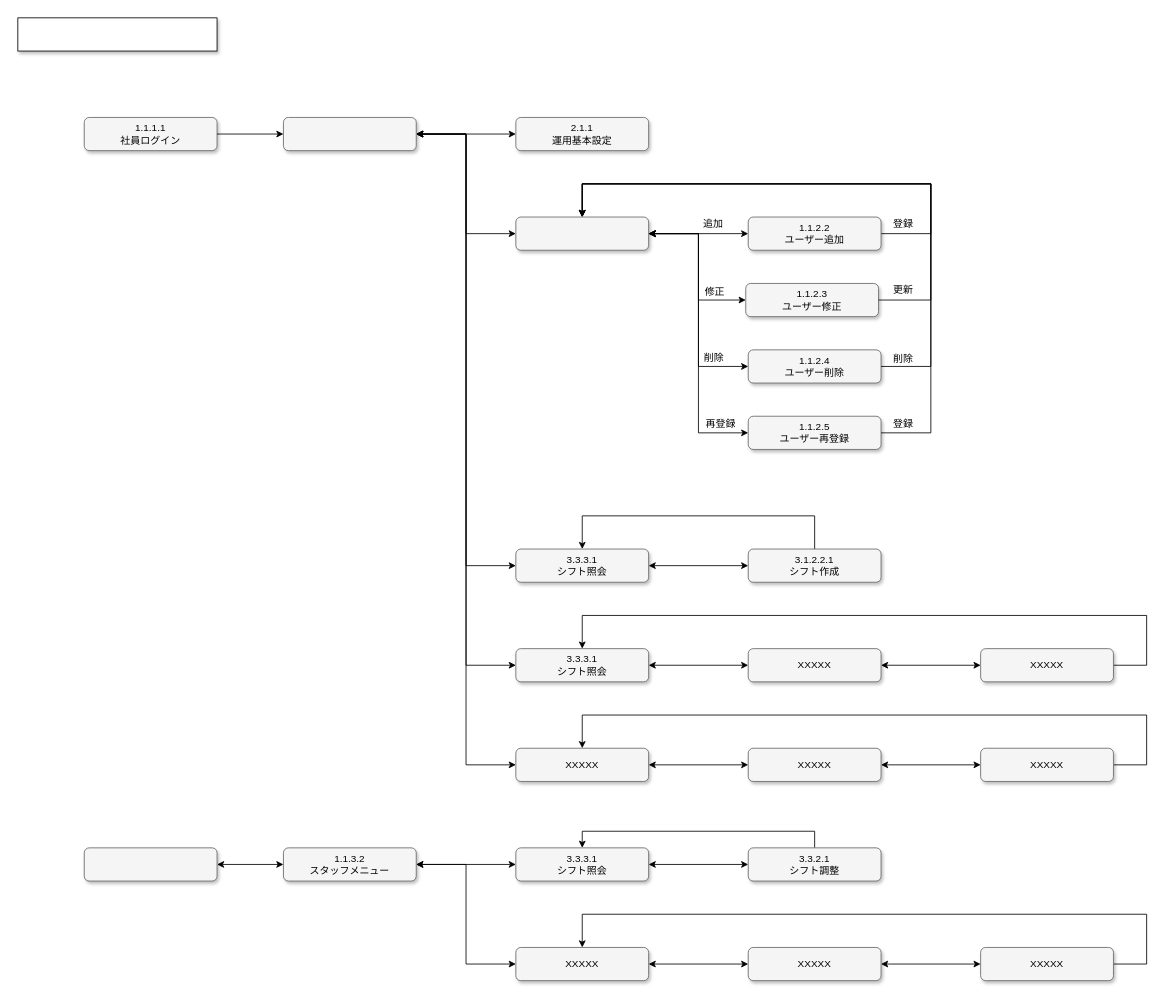
This 1168x1001 diagram has some shape labels left out. Here are the shapes that lost their labels. From the top down, the centre of each, then its label:
At pixel 118 35: "画面遷移図".
At pixel 350 134: "1.1.3.1 社員メニュー".
At pixel 583 234: "1.1.2.1 ユーザー一覧".
At pixel 151 865: "1.1.1.2 スタッフログイン".
